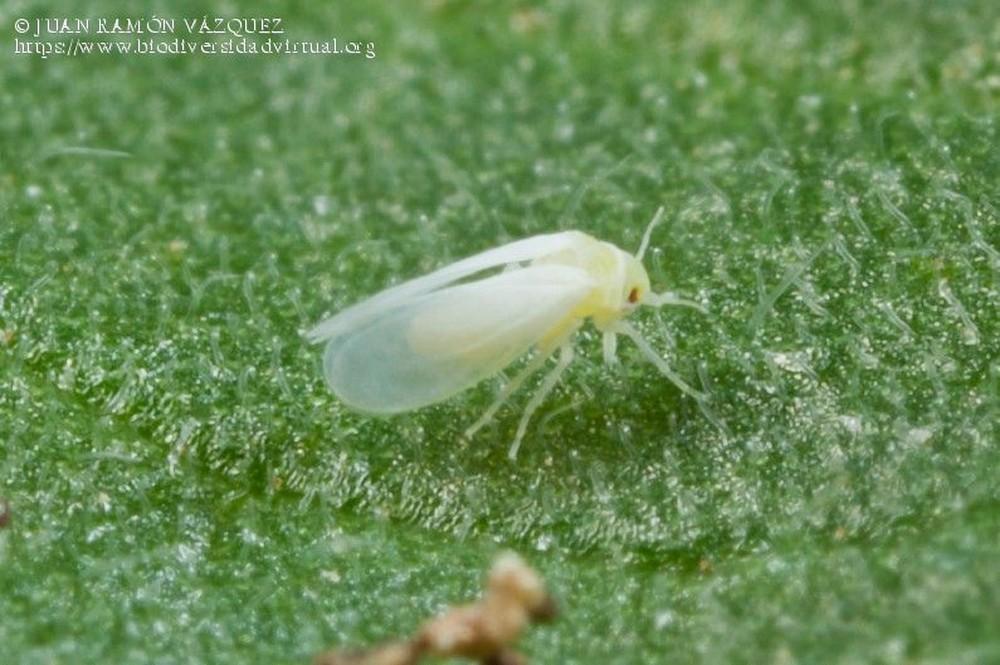Mosca Blanca: (284, 202, 740, 459)
